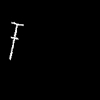double_crochet: (10, 22, 21, 59)
